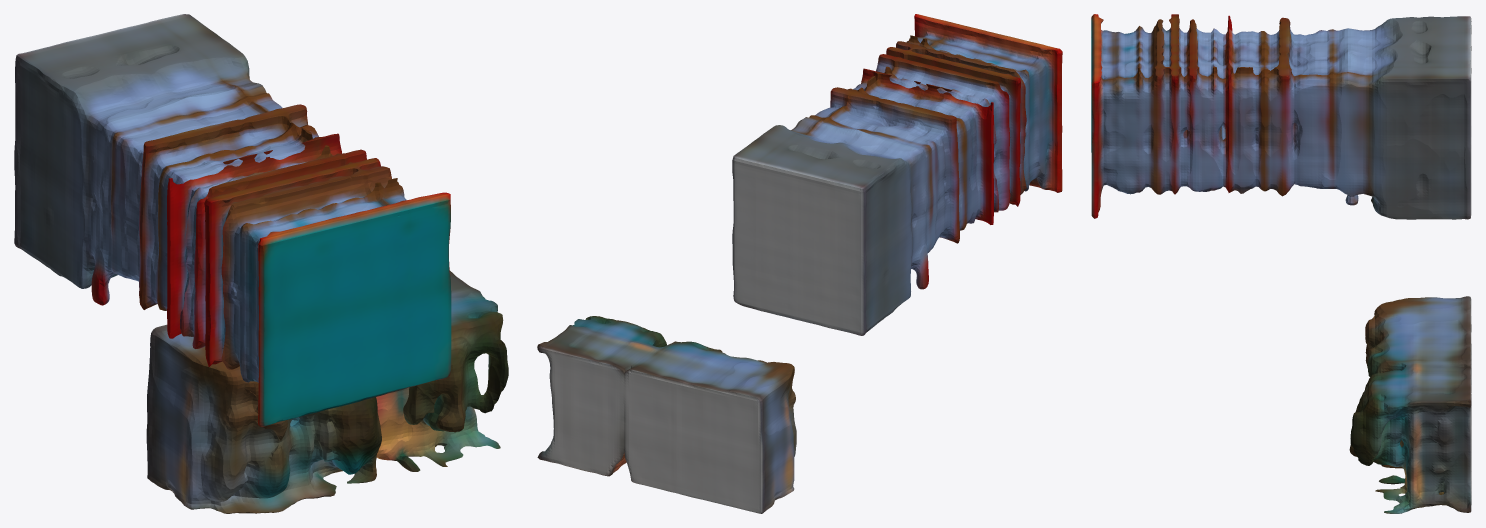
Rendered from 20251031T153131Z_ShapE_ce6fcb3821bb.glb.
3 views of the same model, side by side, from view 1: azimuth 30°, elevation 25°; view 2: azimuth 150°, elevation 25°; view 3: azimuth 270°, elevation 25° (orthographic). The views are drawn at different scales.
Parts seen in each view (by area): view 1: model.ply; view 2: model.ply; view 3: model.ply.
Boxes of the visible parts, bbox=[...] form: model.ply: bbox=[14, 14, 508, 513]; model.ply: bbox=[537, 14, 1062, 513]; model.ply: bbox=[1091, 14, 1471, 513].
Bounding box in the file's own units: 1.97 × 1.97 × 1.98.
